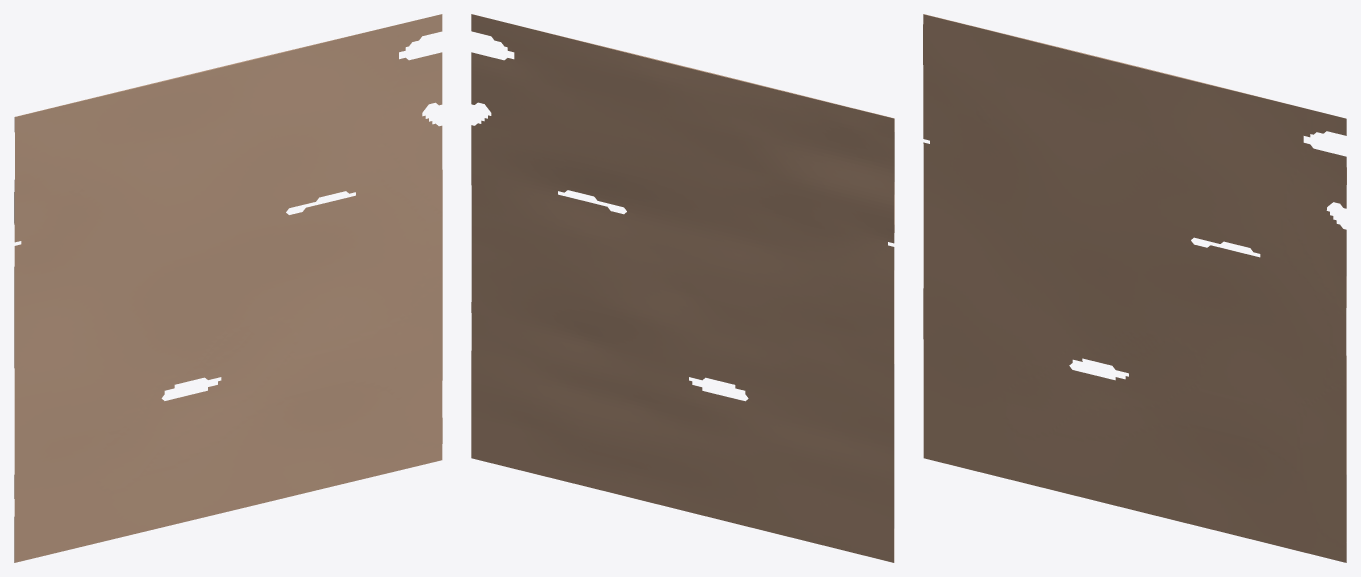
The model's file is L08_shell.glb.
3 views of the same model, side by side, from view 1: azimuth 30°, elevation 25°; view 2: azimuth 150°, elevation 25°; view 3: azimuth 330°, elevation 25° (orthographic).
Parts seen in each view (by area): view 1: world; view 2: world; view 3: world.
Part boxes in pixels (x1=…): world: x1=14, y1=14, x2=442, y2=562; world: x1=471, y1=14, x2=894, y2=562; world: x1=923, y1=14, x2=1346, y2=562.
Size of the model in its own units: 12800 by 12800 by 114.
